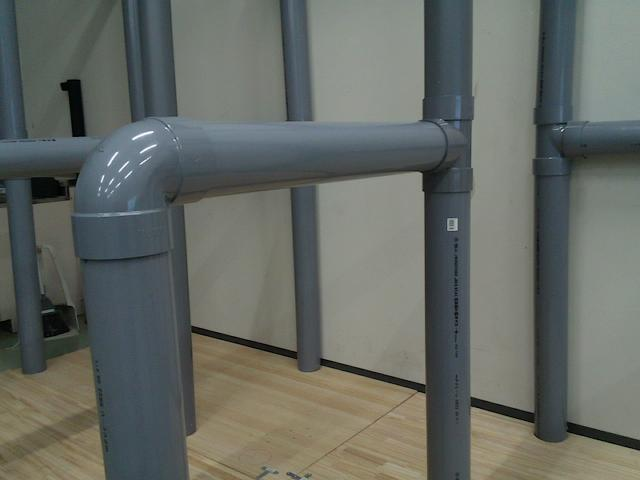bent: (70, 115, 214, 260)
junction: (416, 95, 476, 193), (532, 104, 591, 176)
